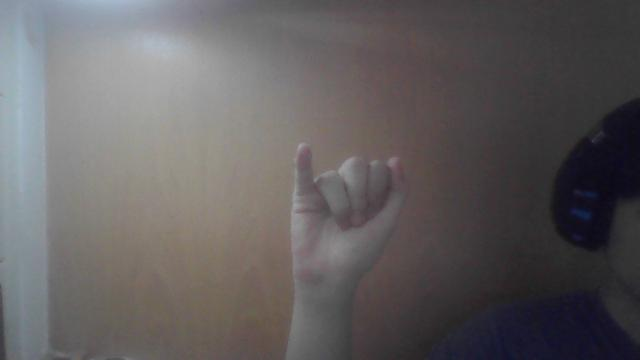Right: (276, 142, 412, 286)
